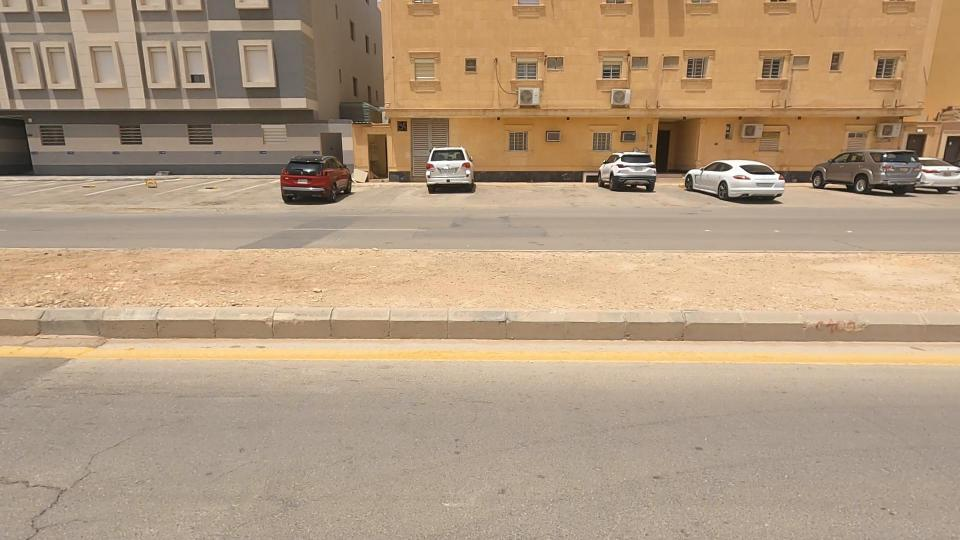CLUTTER_SIDEWALK: (277, 206, 866, 352), (0, 200, 480, 362)
